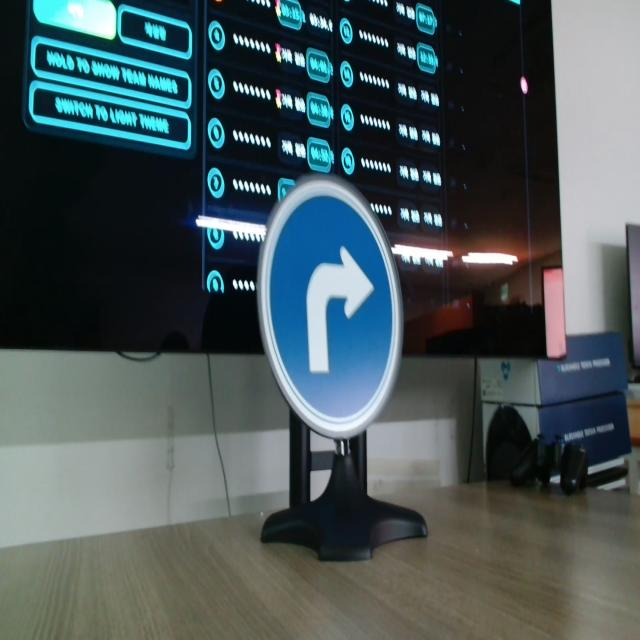right_dierection: (251, 173, 416, 458)
